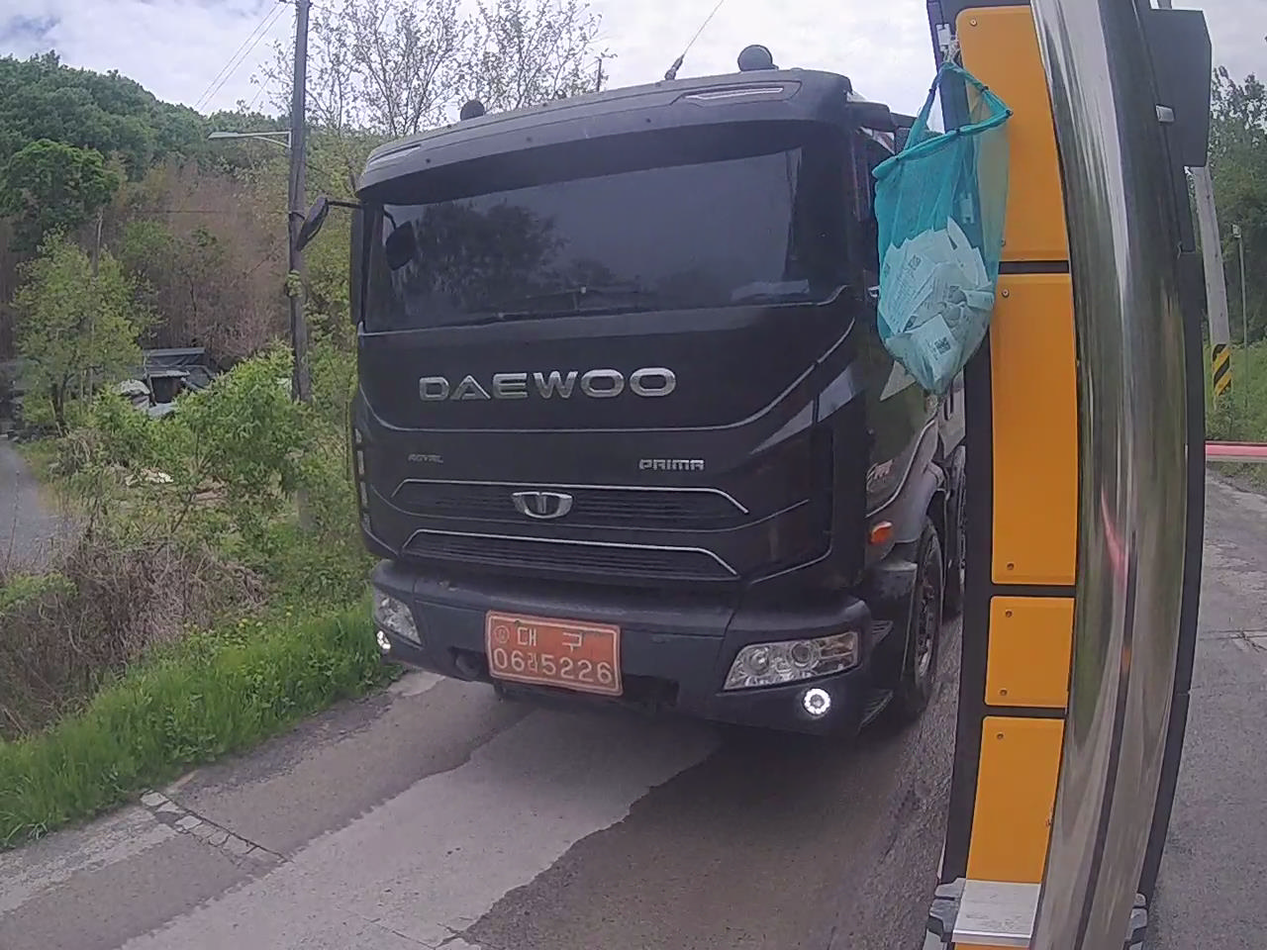license_plate: (487, 612, 621, 694)
truck: (349, 48, 963, 733)
